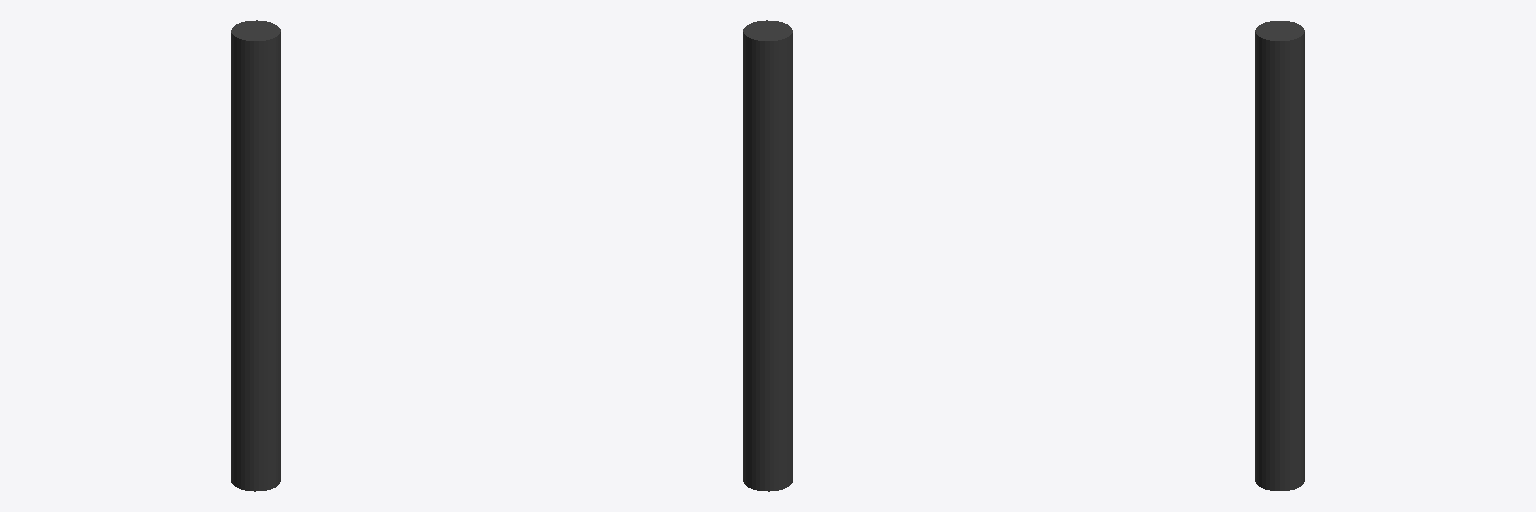
robot.urdf — box:
<?xml version='1.0' encoding='UTF-8'?>
<robot name="box">
  <link name="base_link">
    <inertial>
      <origin xyz="0.0 0.0 0.0" rpy="0.0 -0.0 0.0"/>
      <mass value="1.0"/>
      <inertia ixx="1.0" ixy="0.0" ixz="0.0" iyy="1.0" iyz="0.0" izz="1.0"/>
    </inertial>
    <visual name="base_link_visual">
      <geometry>
        <cylinder radius="0.1" length="2.0"/>
      </geometry>
      <material name="base_link_color">
        <color rgba="0.3 0.3 0.3 1"/>
      </material>
      <origin xyz="0 0 0" rpy="0 0 0"/>
    </visual>
    <collision name="base_link_collision">
      <geometry>
        <cylinder radius="0.1" length="2.0"/>
      </geometry>
      <origin xyz="0 0 0" rpy="0 0 0"/>
    </collision>
  </link>
</robot>

--- Render facts (derived) ---
3 views of the same robot in one strip: view 1: azimuth 30°, elevation 25°; view 2: azimuth 150°, elevation 25°; view 3: azimuth 270°, elevation 25° (orthographic).
Model box with 1 links and 0 joints (none), rooted at base_link, posed every joint at zero.
Links seen in each view (by area): view 1: base_link; view 2: base_link; view 3: base_link.
Link boxes in pixels (x1=…): base_link: x1=231, y1=20, x2=280, y2=491; base_link: x1=743, y1=20, x2=792, y2=491; base_link: x1=1255, y1=21, x2=1304, y2=490.
Size in the robot's own frame: 0.2 by 0.2 by 2 metres.
Geometry: primitives only (box / cylinder / sphere), no mesh files.